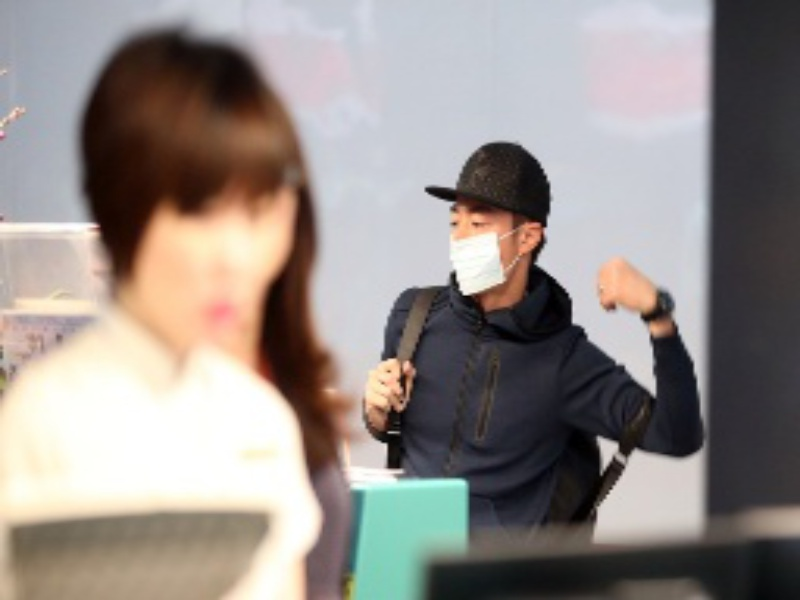ManaoArotava: (415, 117, 557, 334)
